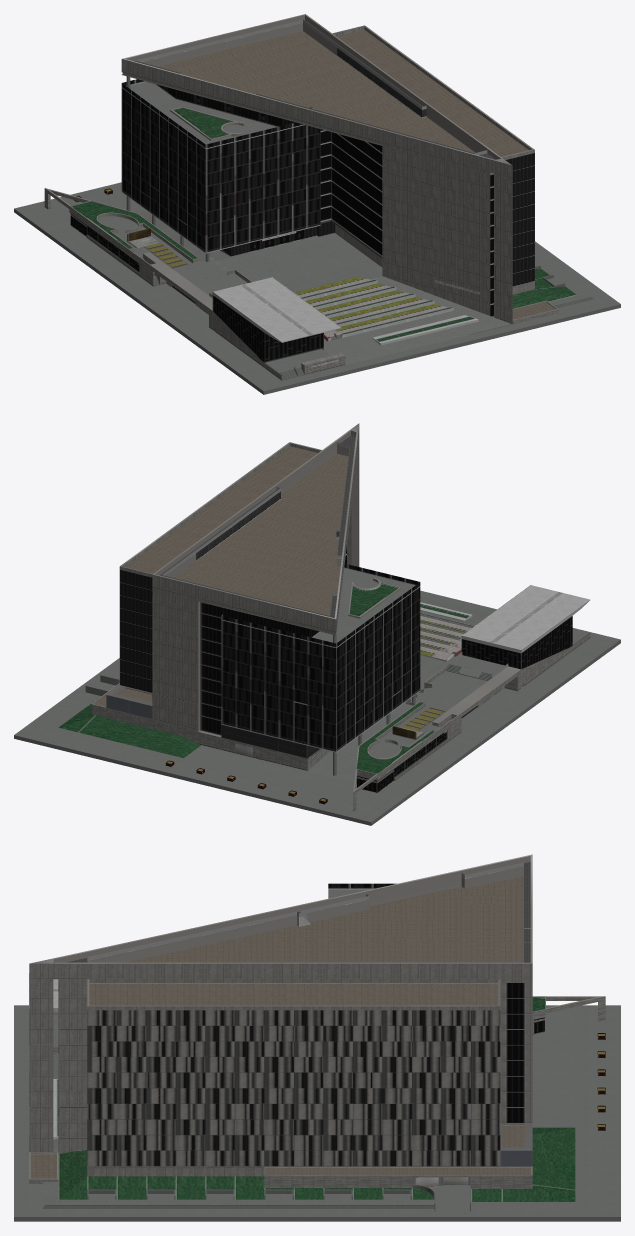
File: POLICE BUILDING.fbx
3 views of the same model, one above another, from view 1: azimuth 30°, elevation 25°; view 2: azimuth 150°, elevation 25°; view 3: azimuth 270°, elevation 25° (orthographic). The views are drawn at different scales.
Visible parts, largest first — view 1: model_0; view 2: model_0; view 3: model_0.
Boxes of the visible parts, bbox=[...] form: model_0: bbox=[14, 14, 620, 394]; model_0: bbox=[14, 423, 620, 825]; model_0: bbox=[14, 854, 620, 1221].
Bounding box in the file's own units: 1165 × 506 × 1410.
Materials: 1 (1 with a texture image).
